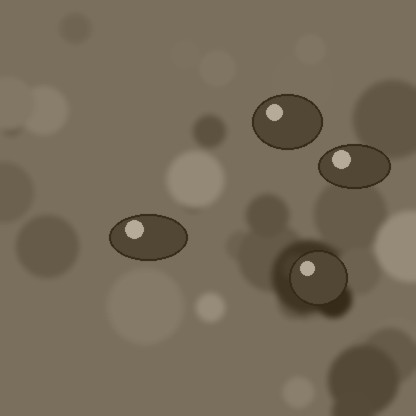gota: (252, 96, 322, 154), (109, 216, 187, 264), (289, 252, 347, 310), (318, 146, 390, 192)
